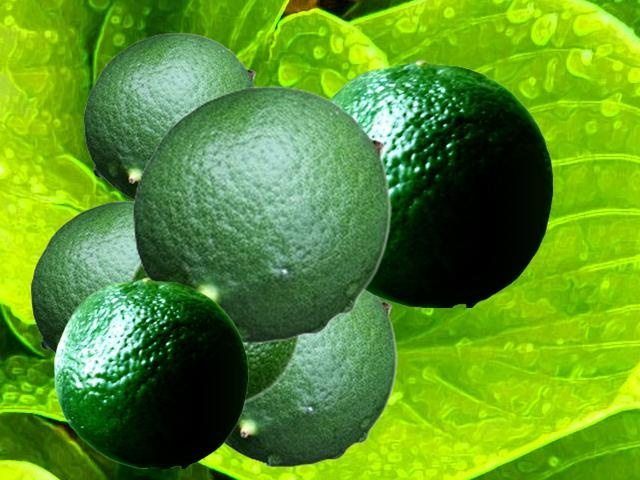calamansi: (132, 85, 390, 342), (330, 59, 552, 306), (54, 277, 247, 467), (223, 292, 396, 466), (83, 32, 258, 201), (125, 260, 300, 407), (30, 200, 138, 354)
